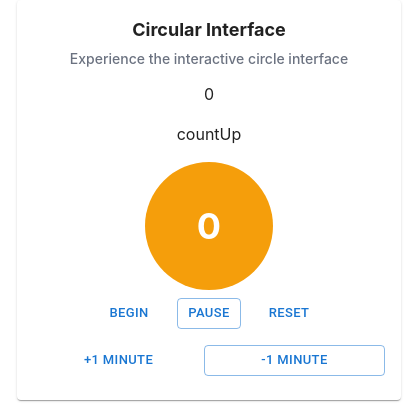
Scenario: Timer › increments timer count by 1 after one second when begin button is clicked
Step 1. Click the button with test id "timer-begin-button" → (129,313), box [97,298,161,329]
Wait 1000 ms
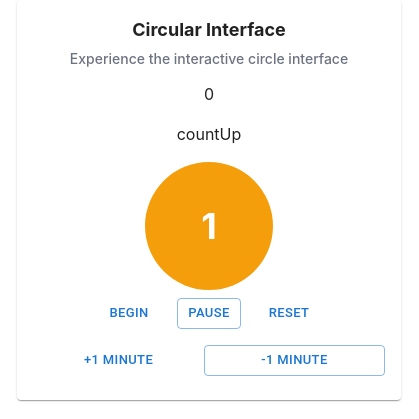
Now the text with test id "timer-count" reads "1", box [201,204,217,248]
